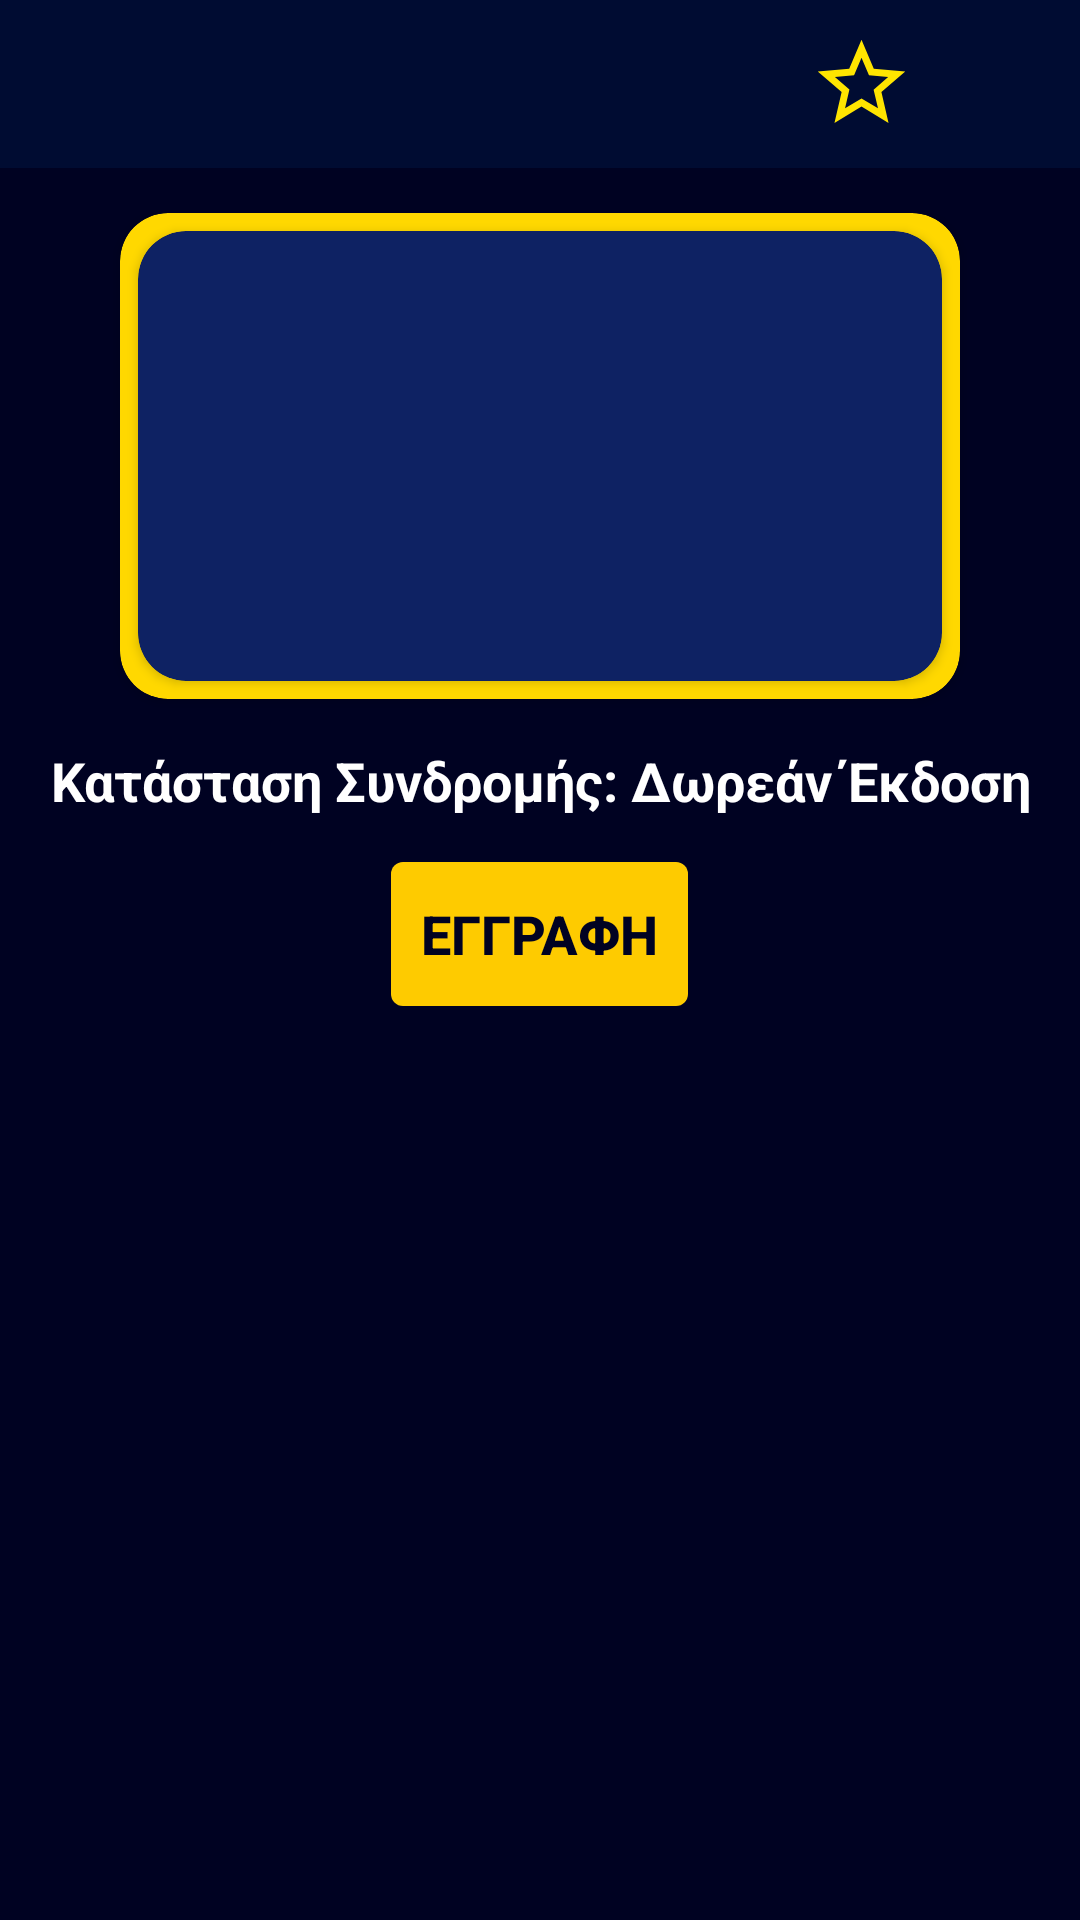

Icon bounding boxes for this 1080px×1920px phone screenshot, format bbox=[x1, y1, x2, y2]:
star border: bbox=[818, 40, 905, 123]
